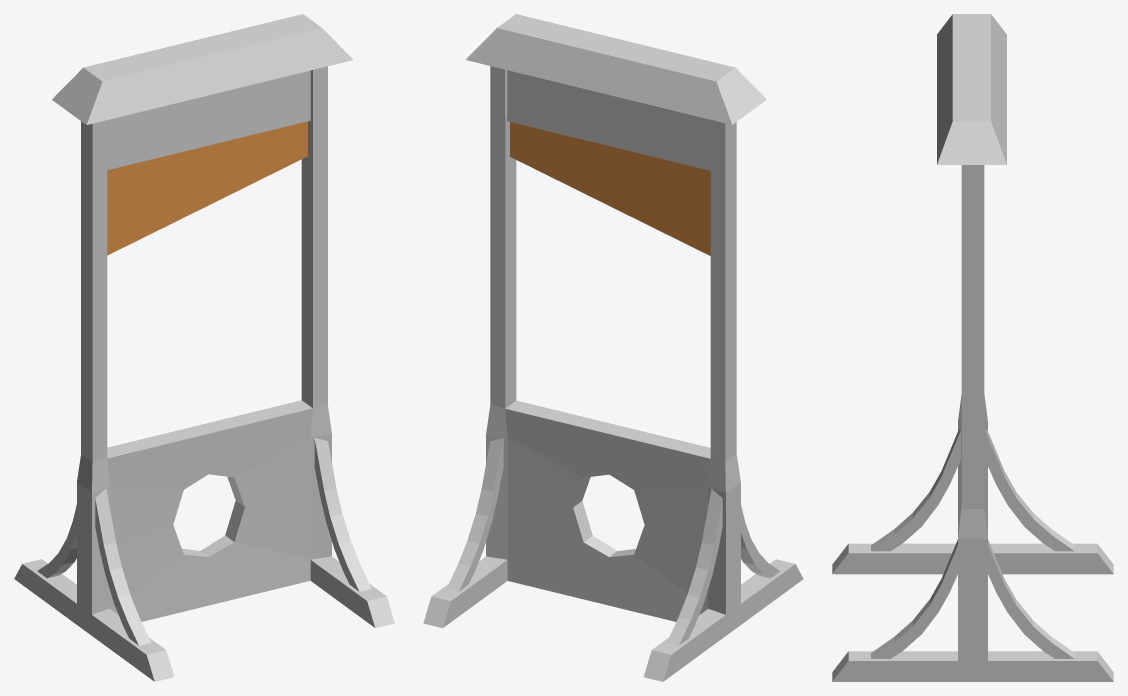
The model's file is Guillotine.fbx.
3 renders of one model, left to right at view 1: azimuth 30°, elevation 25°; view 2: azimuth 150°, elevation 25°; view 3: azimuth 270°, elevation 25°, orthographic.
Parts seen in each view (by area): view 1: Cube.026; view 2: Cube.026; view 3: Cube.026.
Part boxes in pixels (left/top/right/bottom): Cube.026: left=14, top=14, right=394, bottom=681; Cube.026: left=423, top=14, right=803, bottom=681; Cube.026: left=832, top=14, right=1113, bottom=681.
Bounding box in the file's own units: 204 × 405 × 186.
